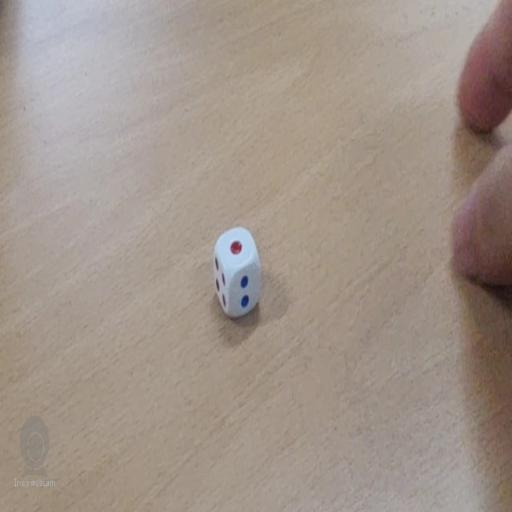dice_1: (214, 225, 264, 320)
